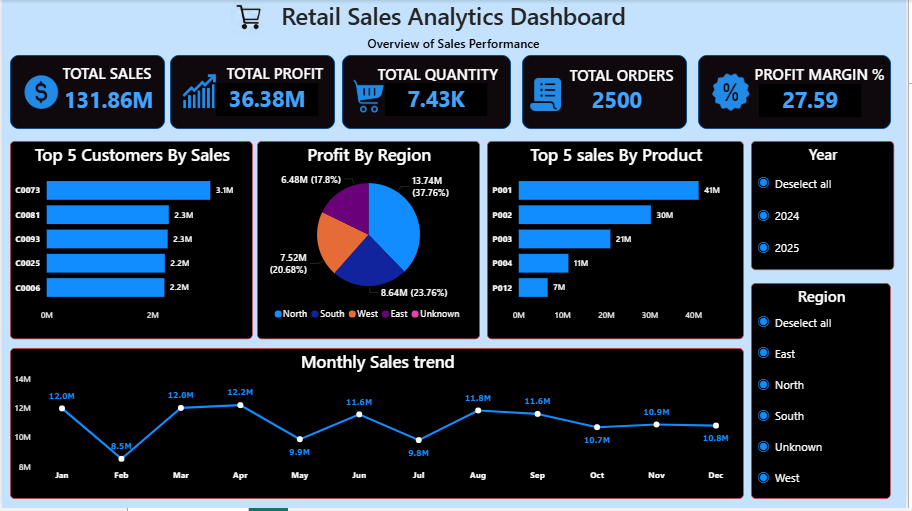

The page's visual inventory and layout, read from the dashboard file:
{"tool":"powerbi","page":{"name":"SALES REPORT","canvas":[1280,720],"ordinal":0},"visuals":[{"type":"shape","box":[737,78,233.9,104.9],"z":0},{"type":"pieChart","title":"Profit By Region","fields":{"Category":["vw_region_sales.region"],"Y":["Sum(vw_region_sales.total_profit)"]},"box":[361.4,199.8,316.1,280.6],"z":1000},{"type":"clusteredBarChart","title":"Top 5 Customers By Sales","fields":{"Category":["vw_retail_sales.CustomerID"],"Y":["vw_retail_sales.total sales"]},"box":[11.3,199.8,344.4,280.6],"z":2000},{"type":"lineChart","title":"Monthly Sales trend","fields":{"Category":["vw_retail_sales.Month_Name"],"Y":["Sum(vw_retail_sales.SalesAmount)"]},"box":[11.3,493.2,1040.3,214],"z":3000},{"type":"textbox","title":"Retail Sales Analytics Dashboard","box":[0,0,1279.8,73.7],"z":4000},{"type":"listSlicer","title":"Year","fields":{"Values":["vw_retail_sales.year_new"]},"box":[1061.6,199.8,202.7,182.8],"z":5000},{"type":"image","box":[313.2,4.3,69.4,46.8],"z":6000},{"type":"listSlicer","fields":{"Values":["vw_retail_sales.Region"]},"box":[1061.6,401.1,198.4,306.1],"z":7000},{"type":"clusteredBarChart","title":"Top 5 sales By Product","fields":{"Category":["vw_retail_sales.ProductID"],"Y":["Sum(vw_retail_sales.SalesAmount)"]},"box":[687.4,199.8,364.3,280.6],"z":8000},{"type":"shape","box":[11.3,78,219.7,104.9],"z":9000},{"type":"image","box":[21.3,102,69.4,56.7],"z":10000},{"type":"textbox","title":"TOTAL SALES","box":[80.8,89.3,154.5,60.9],"z":11000},{"type":"card","fields":{"Values":["Sum(vw_retail_sales.SalesAmount)"]},"box":[80.8,116.2,140.3,51],"z":12000},{"type":"shape","box":[238.1,78,233.9,104.9],"z":13000},{"type":"image","box":[255.1,99.2,48.2,59.5],"z":14000},{"type":"card","fields":{"Values":["Sum(vw_retail_sales.Profit)"]},"box":[303.3,117.6,144.6,46.8],"z":15000},{"type":"shape","box":[986.5,78,273.5,104.9],"z":16000},{"type":"shape","box":[481.9,78,239.5,104.9],"z":17000},{"type":"card","fields":{"Values":["Count(vw_retail_sales.OrderID)"]},"box":[799.4,119.1,144.6,46.8],"z":18000},{"type":"textbox","title":"TOTAL PROFIT","box":[313.2,89.3,158.7,59.5],"z":19000},{"type":"image","box":[744.1,104.9,55.3,59.5],"z":20000},{"type":"textbox","title":"PROFIT MARGIN %","box":[1061.6,90.7,198.4,59.5],"z":21000},{"type":"textbox","title":"TOTAL QUANTITY","box":[527.2,90.7,194.2,60.9],"z":22000},{"type":"image","box":[496.1,104.9,46.8,62.4],"z":23000},{"type":"card","fields":{"Values":["Sum(vw_retail_sales.Quantity)"]},"box":[542.8,117.6,144.6,46.8],"z":24000},{"type":"card","fields":{"Values":["vw_customer_sales.Profit Margin %"]},"box":[1072.9,119.1,144.6,46.8],"z":25000},{"type":"textbox","title":"TOTAL ORDERS","box":[799.4,92.1,158.7,59.5],"z":26000},{"type":"image","box":[993.5,102,79.4,56.7],"z":27000}]}

Visuals, with their boxes in screenshot pixels (x1, y1, x2, y2), scaled from the page's 1280x720 canvas onto the 912x511 screenshot:
shape: locate(525, 55, 692, 130)
"Profit By Region" pieChart: locate(257, 142, 483, 341)
"Top 5 Customers By Sales" clusteredBarChart: locate(8, 142, 253, 341)
"Monthly Sales trend" lineChart: locate(8, 350, 749, 502)
"Retail Sales Analytics Dashboard" textbox: locate(0, 0, 911, 52)
"Year" listSlicer: locate(756, 142, 901, 272)
image: locate(223, 3, 273, 36)
listSlicer - vw_retail_sales.Region: locate(756, 285, 898, 502)
"Top 5 sales By Product" clusteredBarChart: locate(490, 142, 749, 341)
shape: locate(8, 55, 165, 130)
image: locate(15, 72, 65, 113)
"TOTAL SALES" textbox: locate(58, 63, 168, 107)
card - Sum(vw_retail_sales.SalesAmount): locate(58, 82, 158, 119)
shape: locate(170, 55, 336, 130)
image: locate(182, 70, 216, 113)
card - Sum(vw_retail_sales.Profit): locate(216, 83, 319, 117)
shape: locate(703, 55, 898, 130)
shape: locate(343, 55, 514, 130)
card - Count(vw_retail_sales.OrderID): locate(570, 85, 673, 118)
"TOTAL PROFIT" textbox: locate(223, 63, 336, 106)
image: locate(530, 74, 570, 117)
"PROFIT MARGIN %" textbox: locate(756, 64, 898, 107)
"TOTAL QUANTITY" textbox: locate(376, 64, 514, 108)
image: locate(353, 74, 387, 119)
card - Sum(vw_retail_sales.Quantity): locate(387, 83, 490, 117)
card - vw_customer_sales.Profit Margin %: locate(764, 85, 867, 118)
"TOTAL ORDERS" textbox: locate(570, 65, 683, 108)
image: locate(708, 72, 764, 113)
